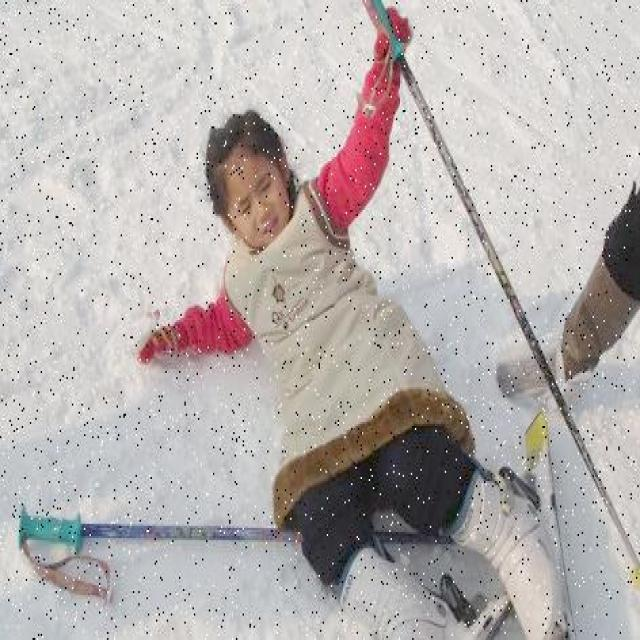fall: (158, 100, 466, 634)
